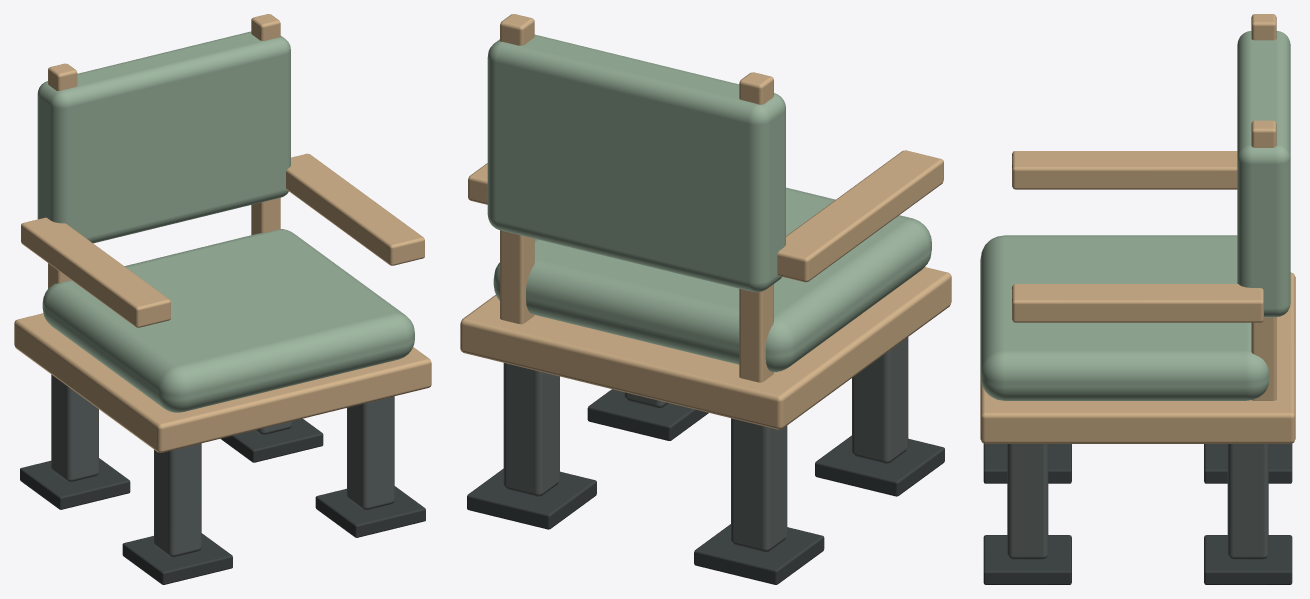
Rendered from public-library-and-reading-garden-public-library-and-r-f3676ffe__30943.glb.
3 views of the same model, side by side, from view 1: azimuth 30°, elevation 25°; view 2: azimuth 150°, elevation 25°; view 3: azimuth 270°, elevation 25° (orthographic). The views are drawn at different scales.
Visible parts, largest first — view 1: public-library-and-reading-garden-children-story-seat; view 2: public-library-and-reading-garden-children-story-seat; view 3: public-library-and-reading-garden-children-story-seat.
Boxes of the visible parts, bbox=[...] form: public-library-and-reading-garden-children-story-seat: bbox=[14, 14, 431, 584]; public-library-and-reading-garden-children-story-seat: bbox=[460, 14, 951, 584]; public-library-and-reading-garden-children-story-seat: bbox=[980, 14, 1295, 584].
Size of the model in its own units: 0.57 by 0.78 by 0.5.
